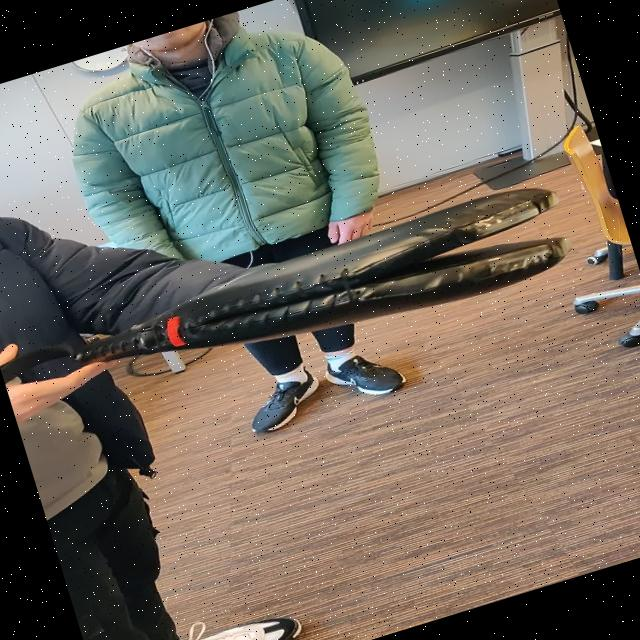paddle: (71, 188, 573, 364)
